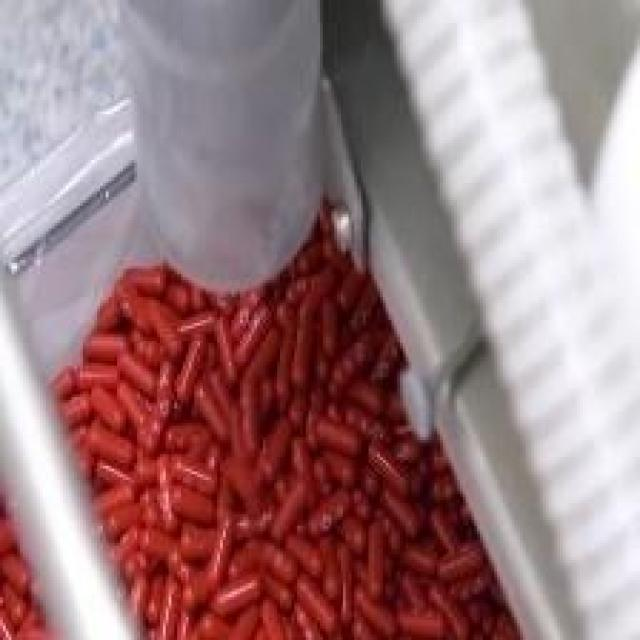Medicine: (0, 25, 570, 639)
